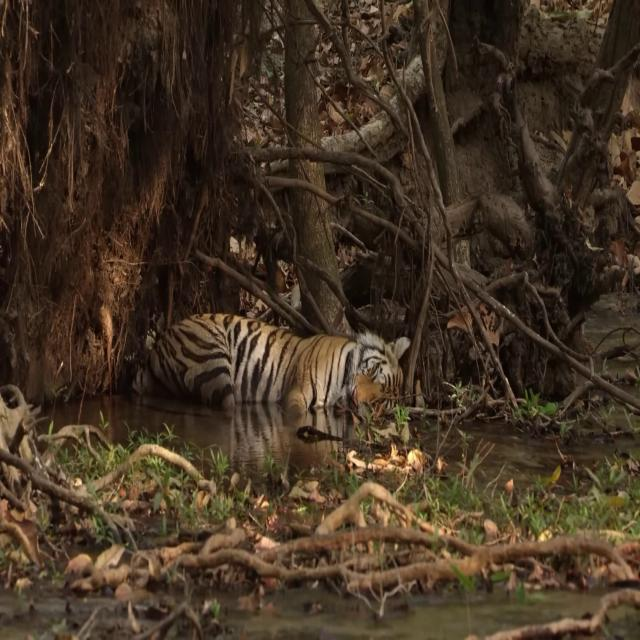tiger: (135, 305, 412, 428)
